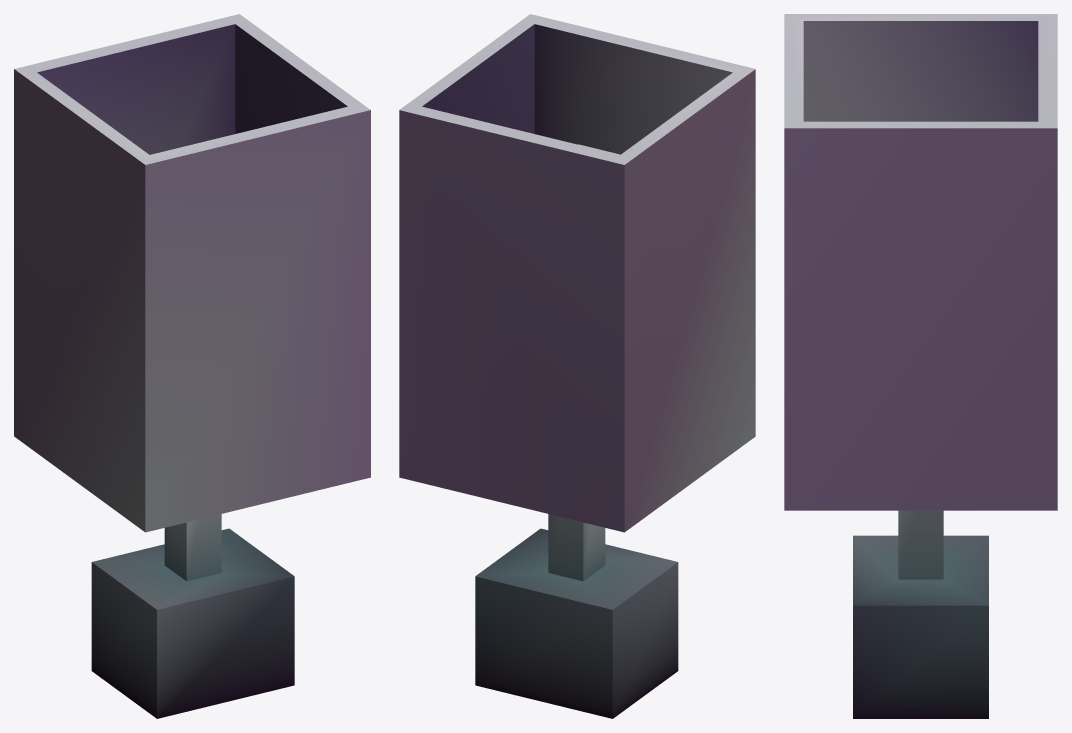
Rendered from boxy_lamp.FBX.
The picture shows the model from 3 angles, left to right: view 1: azimuth 30°, elevation 25°; view 2: azimuth 150°, elevation 25°; view 3: azimuth 270°, elevation 25°; orthographic projection. The views are drawn at different scales.
Parts seen in each view (by area): view 1: boxy lamp; view 2: boxy lamp; view 3: boxy lamp.
Boxes of the visible parts, x1,y1,x2,y2 form: boxy lamp: (14, 14, 370, 718); boxy lamp: (399, 14, 755, 718); boxy lamp: (784, 14, 1057, 718).
Size of the model in its own units: 0.3673 by 0.917 by 0.3704.
